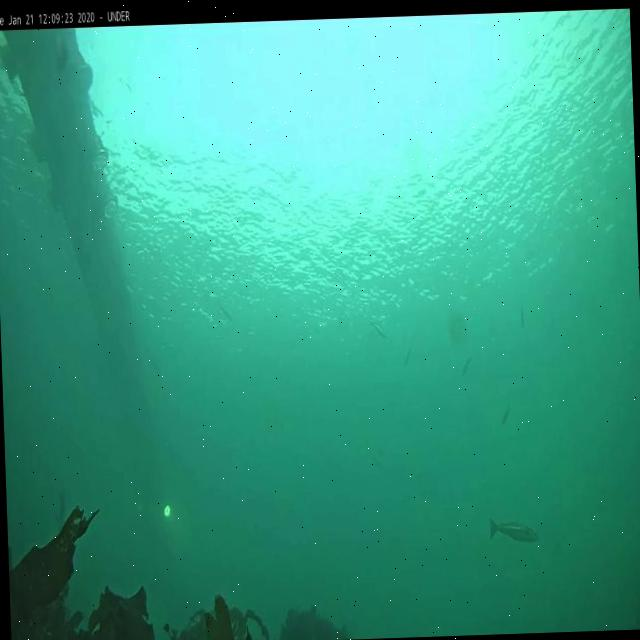fish: (486, 512, 540, 548), (368, 320, 387, 338), (500, 402, 512, 426), (218, 302, 232, 322), (461, 354, 472, 377), (403, 345, 412, 368), (519, 304, 525, 328)
